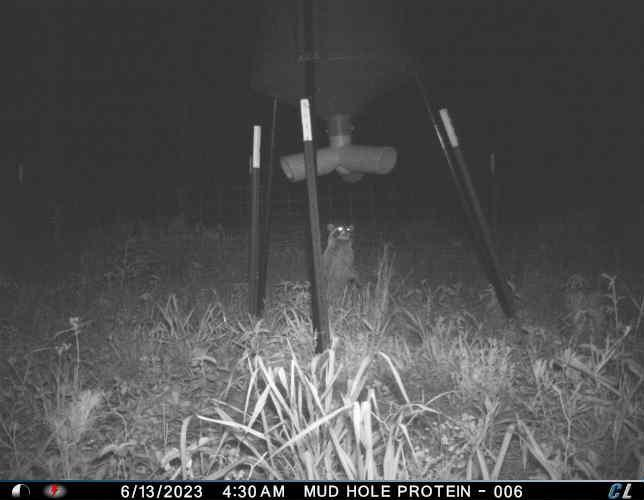Raccoon: (319, 222, 364, 303)
